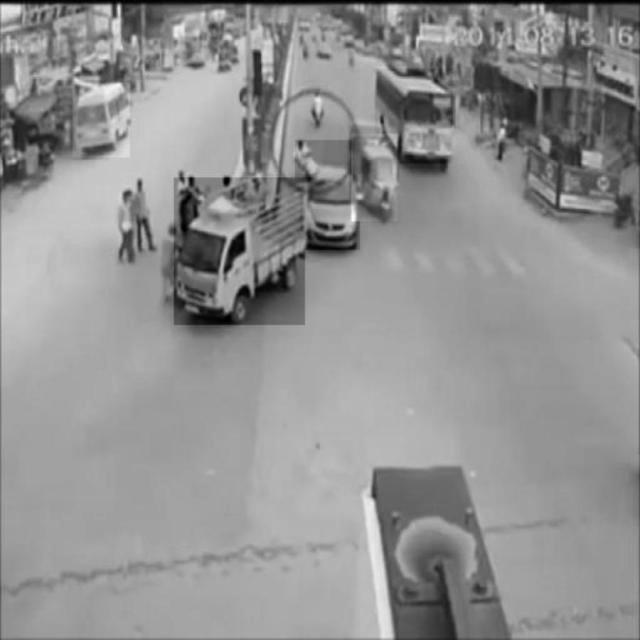accident: (296, 140, 360, 250)
vehicle: (174, 178, 305, 325), (376, 69, 453, 163), (73, 82, 130, 158), (351, 134, 397, 222)
